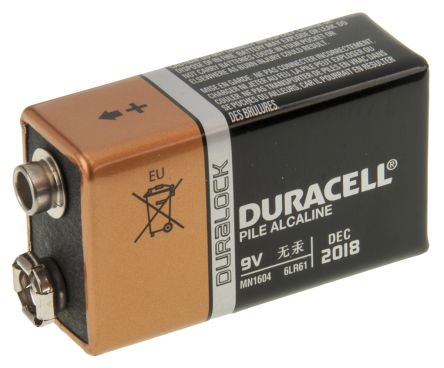9V: (10, 9, 433, 354)
